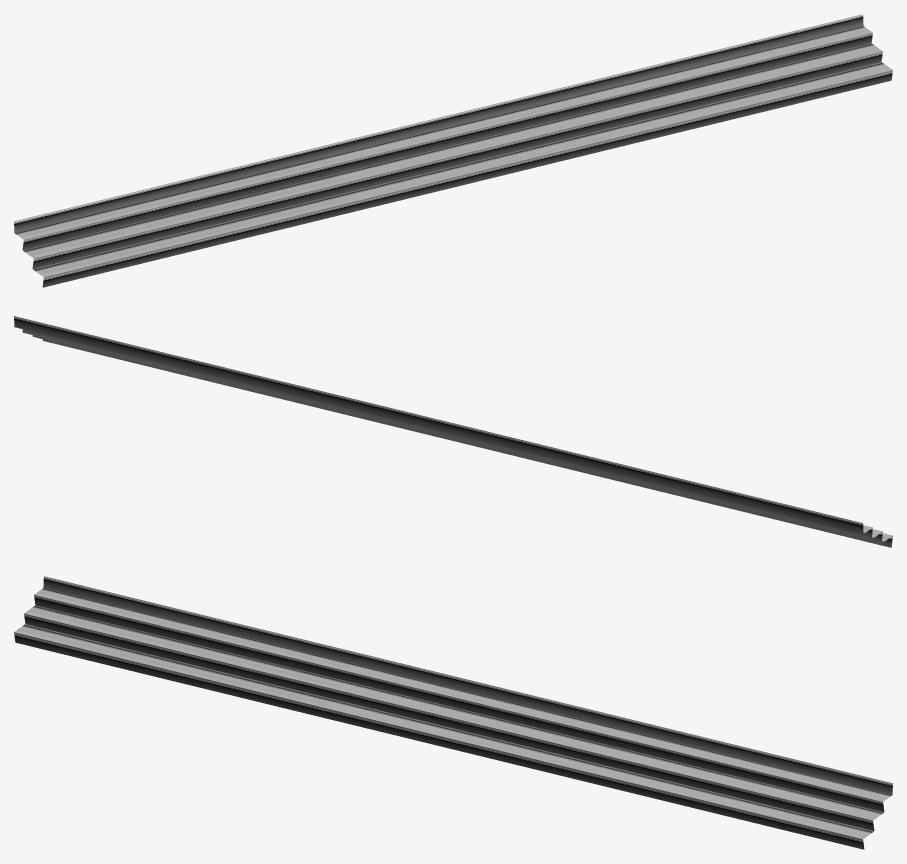
File: TTreppeBreitGedreht3Stufen_14.glb
3 renders of one model, top to bottom at view 1: azimuth 30°, elevation 25°; view 2: azimuth 150°, elevation 25°; view 3: azimuth 330°, elevation 25°, orthographic.
Visible parts, largest first — view 1: pPlaneShape20; view 2: pPlaneShape20; view 3: pPlaneShape20.
Part boxes in pixels (<box>): pPlaneShape20: <box>14,14,892,287</box>; pPlaneShape20: <box>14,316,892,547</box>; pPlaneShape20: <box>14,576,892,849</box>.
Size of the model in its own units: 2.53 by 0.1299 by 0.154.
1 material, 1 textured.
